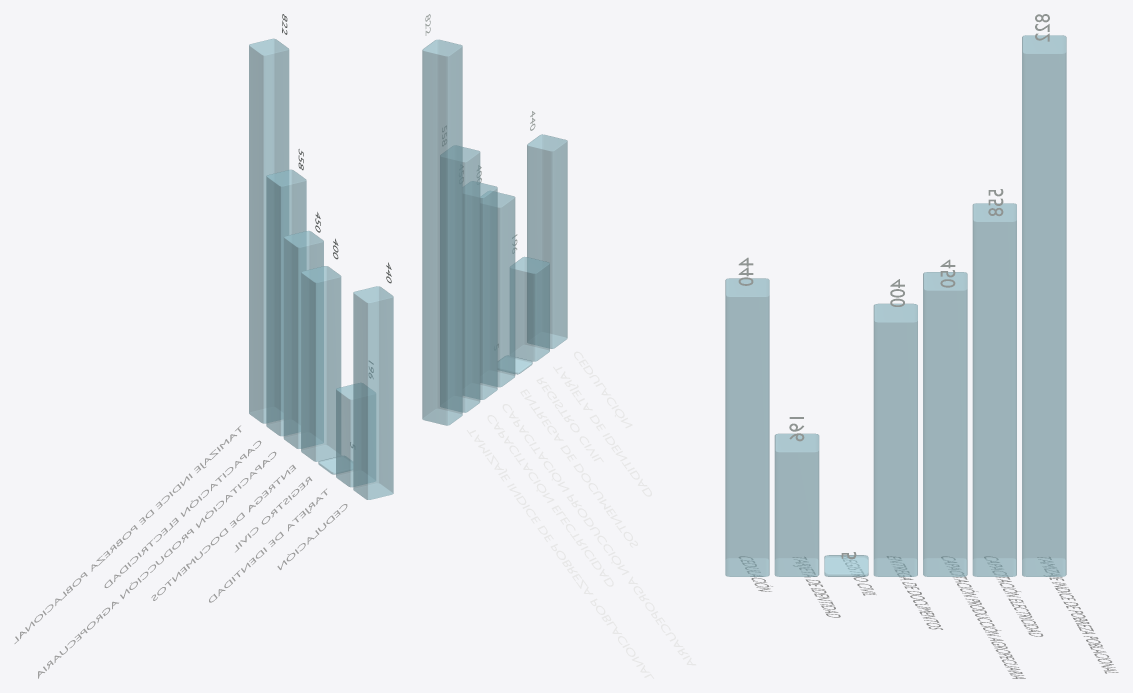
File: Graficos_2.gltf
3 renders of one model, left to right at view 1: azimuth 30°, elevation 25°; view 2: azimuth 150°, elevation 25°; view 3: azimuth 270°, elevation 25°, orthographic. The views are drawn at different scales.
Parts seen in each view (by area): view 1: pCube7.001, pCube6.001, pCube5.001, pCube1.001, pCube4.001, pCube2.001, Text.004, Text.006; view 2: pCube7.001, pCube6.001, pCube1.001, pCube5.001, pCube4.001, pCube2.001, Text.004, Text.006, Text.005, Text.003, Text.001, pCube3.001; view 3: pCube7.001, pCube6.001, pCube5.001, pCube1.001, pCube4.001, pCube2.001, Text.004, pCube3.001, Text.006, Text.005.
Boxes of the visible parts, x1,y1,x2,y2 form: pCube7.001: (249, 38, 289, 423); pCube6.001: (266, 169, 306, 436); pCube5.001: (283, 231, 323, 448); pCube1.001: (353, 286, 393, 499); pCube4.001: (301, 266, 341, 461); pCube2.001: (336, 383, 375, 487); Text.004: (38, 451, 276, 678); Text.006: (14, 425, 241, 643); pCube7.001: (422, 39, 462, 425); pCube6.001: (440, 145, 480, 412); pCube1.001: (527, 134, 567, 348); pCube5.001: (463, 181, 497, 399); pCube4.001: (480, 191, 515, 387); pCube2.001: (510, 257, 549, 361); Text.004: (502, 404, 695, 665); Text.006: (467, 430, 653, 678); Text.005: (487, 415, 613, 586); Text.003: (520, 389, 637, 547); Text.001: (553, 366, 651, 496); pCube3.001: (498, 355, 532, 374); pCube7.001: (1022, 35, 1066, 576); pCube6.001: (972, 203, 1016, 576); pCube5.001: (923, 272, 967, 576); pCube1.001: (725, 278, 769, 576); pCube4.001: (873, 303, 917, 576); pCube2.001: (774, 433, 819, 576); Text.004: (941, 556, 1025, 678); pCube3.001: (824, 555, 868, 576); Text.006: (1037, 557, 1118, 673); Text.005: (984, 556, 1043, 636).
Bounding box in the file's own units: 3.97 × 8.75 × 3.7.
